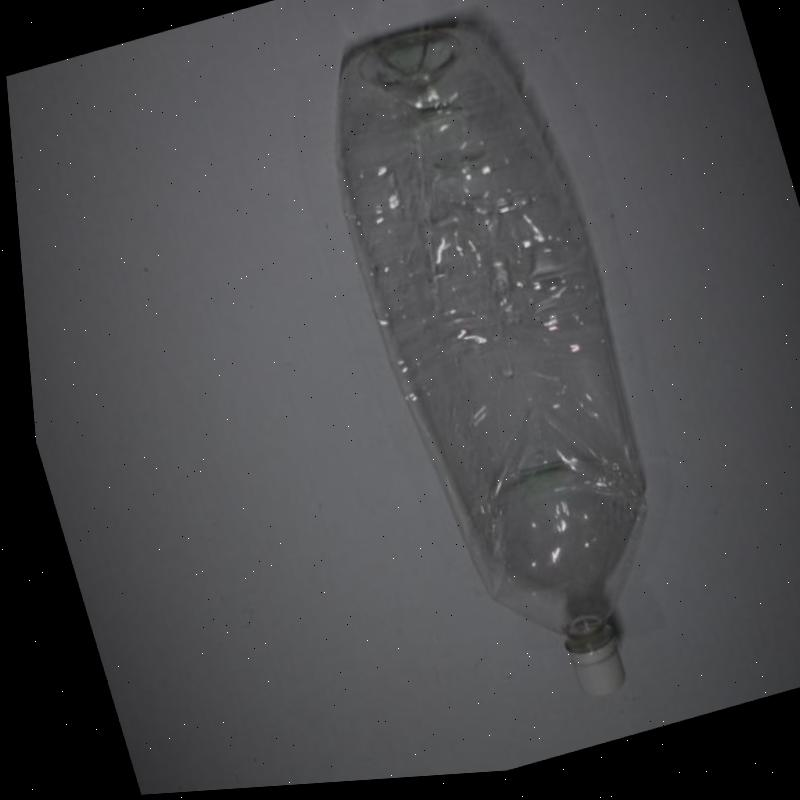botella: (294, 0, 705, 744)
